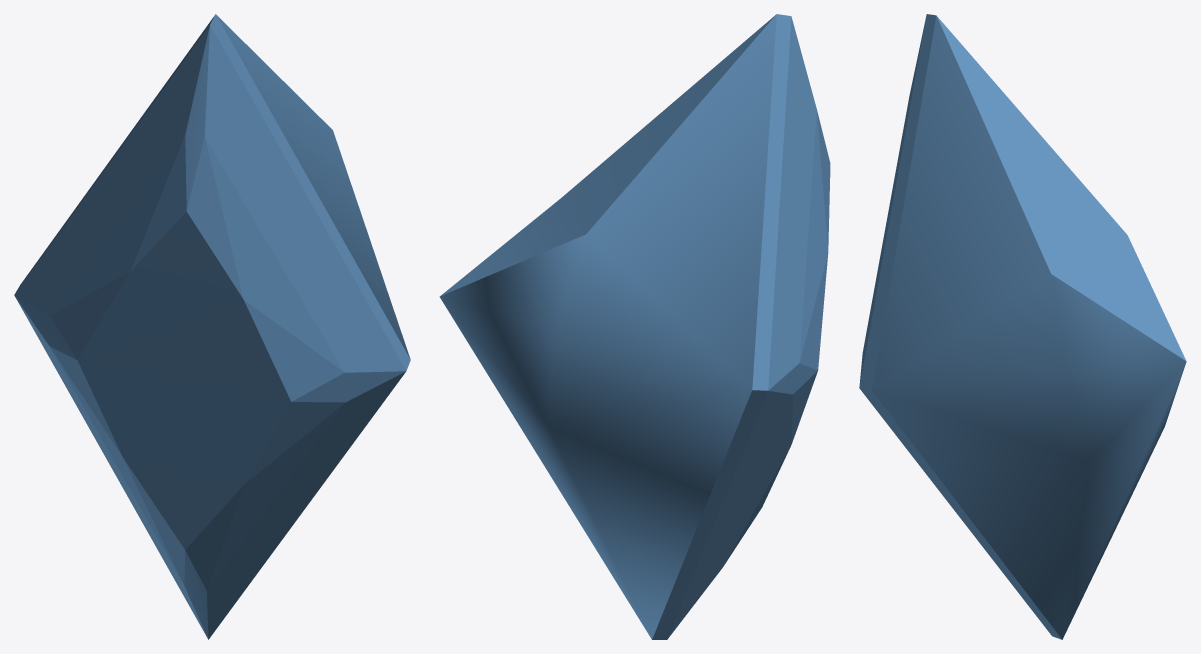
File: TL3_8shapes_Kite_Classic_Stone.001 3.glb
3 views of the same model, side by side, from view 1: azimuth 30°, elevation 25°; view 2: azimuth 150°, elevation 25°; view 3: azimuth 270°, elevation 25° (orthographic). The views are drawn at different scales.
Visible parts, largest first — view 1: TL3_8shapes_Kite_Classic_Stone.001; view 2: TL3_8shapes_Kite_Classic_Stone.001; view 3: TL3_8shapes_Kite_Classic_Stone.001.
Part boxes in pixels (x1,y1,x2,y2): TL3_8shapes_Kite_Classic_Stone.001: (14, 14, 410, 639); TL3_8shapes_Kite_Classic_Stone.001: (439, 14, 830, 639); TL3_8shapes_Kite_Classic_Stone.001: (859, 14, 1186, 639).
Bounding box in the file's own units: 0.3261 × 0.6295 × 0.3134.
